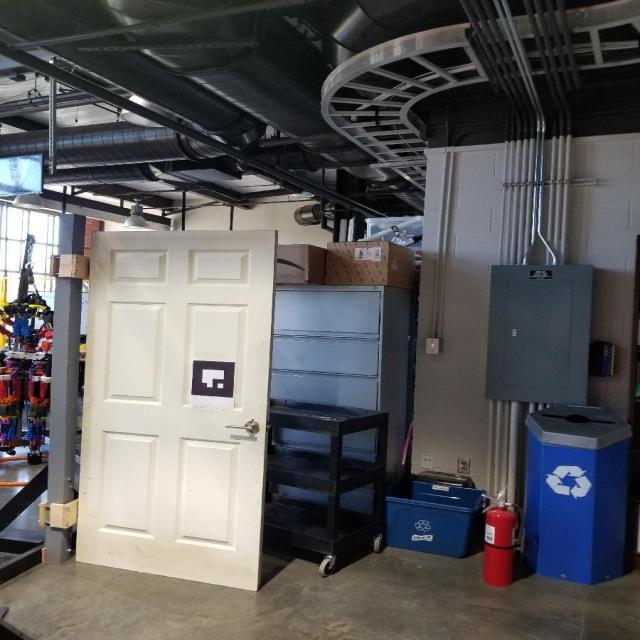door: (72, 228, 280, 594), (224, 418, 262, 436)
